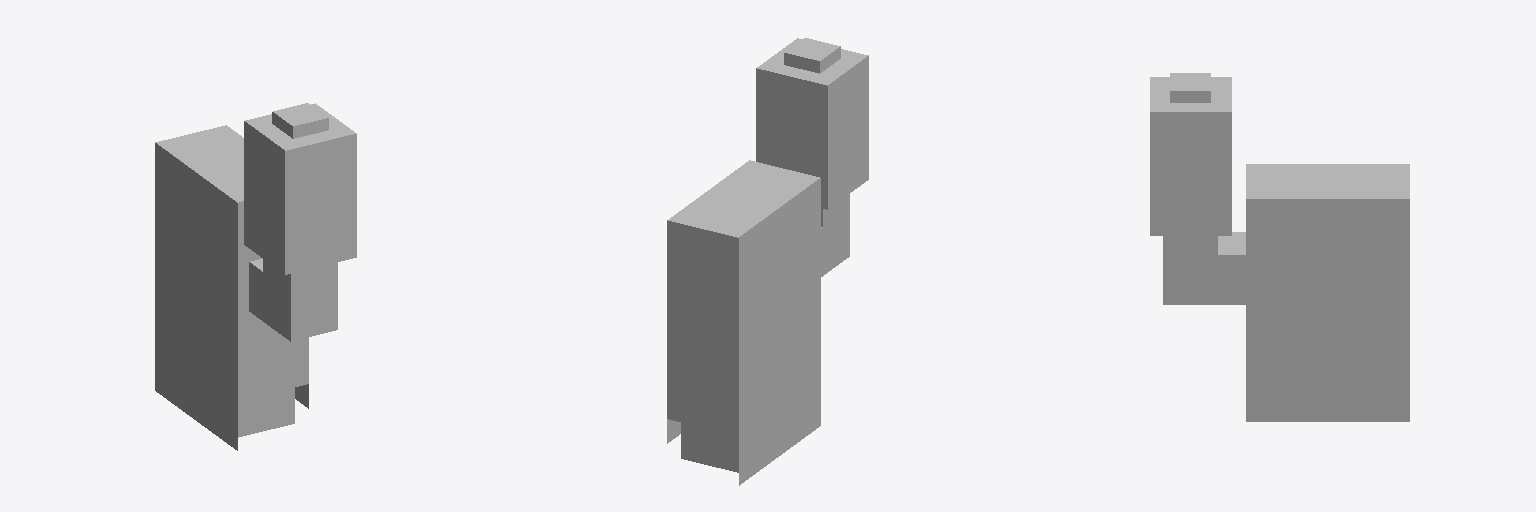
File: conveyor_redstone.obj
3 renders of one model, left to right at view 1: azimuth 30°, elevation 25°; view 2: azimuth 150°, elevation 25°; view 3: azimuth 270°, elevation 25°, orthographic.
Parts seen in each view (by area): view 1: panel; view 2: panel; view 3: panel.
Boxes of the visible parts, <box> form: panel: <box>155,103,356,450</box>; panel: <box>667,38,868,485</box>; panel: <box>1150,73,1409,421</box>.
Bounding box in the file's own units: 0.1875 × 0.875 × 0.5938.